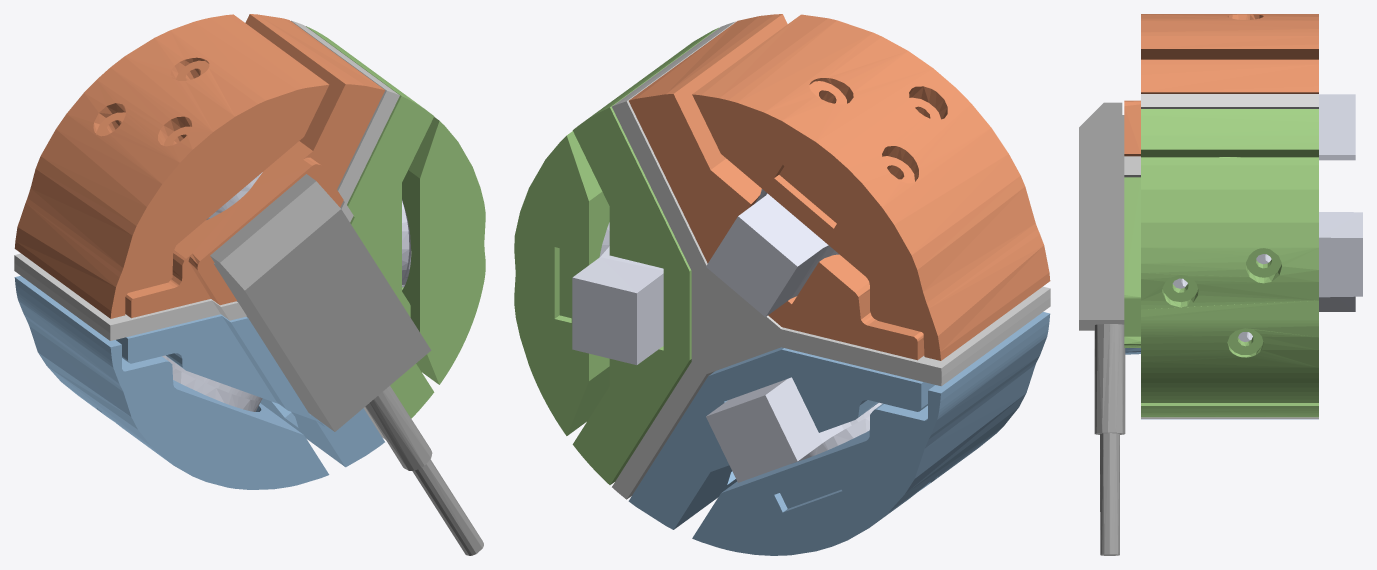
3 views of the same model, side by side, from view 1: azimuth 30°, elevation 25°; view 2: azimuth 150°, elevation 25°; view 3: azimuth 270°, elevation 25° (orthographic). The views are drawn at different scales.
Parts seen in each view (by area): view 1: ati_cover_middle, polhemus_sensor, ati_cover_index, ati_base_middle, ati_cover_thumb, ati_base_index, ati_base_thumb, mid_connect, ATI_nano17 (×2); view 2: ati_cover_middle, ati_cover_index, ATI_nano17 (×3), ati_base_middle, mid_connect, ati_base_thumb, ati_cover_thumb, ati_base_index; view 3: ati_cover_thumb, polhemus_sensor, ati_base_thumb, ati_cover_middle, ati_base_middle, ATI_nano17 (×3), mid_connect.
Part boxes in pixels (<box>): ati_cover_middle: <box>14,14,329,318</box>; polhemus_sensor: <box>210,174,483,555</box>; ati_cover_index: <box>14,275,329,489</box>; ati_base_middle: <box>125,14,384,318</box>; ati_cover_thumb: <box>402,117,485,384</box>; ati_base_index: <box>116,314,384,467</box>; ati_base_thumb: <box>306,26,434,418</box>; mid_connect: <box>14,20,399,439</box>; ATI_nano17 (×2): <box>162,199,411,411</box>; ati_cover_middle: <box>692,14,1050,360</box>; ati_cover_index: <box>692,312,1050,555</box>; ATI_nano17 (×3): <box>572,189,882,482</box>; ati_base_middle: <box>629,14,924,360</box>; mid_connect: <box>612,21,1050,499</box>; ati_base_thumb: <box>572,27,718,484</box>; ati_cover_thumb: <box>514,131,609,435</box>; ati_base_index: <box>628,347,934,529</box>; ati_cover_thumb: <box>1141,157,1318,402</box>; polhemus_sensor: <box>1079,102,1125,555</box>; ati_base_thumb: <box>1124,109,1318,417</box>; ati_cover_middle: <box>1141,14,1318,59</box>; ati_base_middle: <box>1124,59,1318,156</box>; ATI_nano17 (×3): <box>1172,94,1362,341</box>; mid_connect: <box>1124,94,1318,418</box>.
Size of the model in its own units: 0.0497 by 0.0619 by 0.035.
